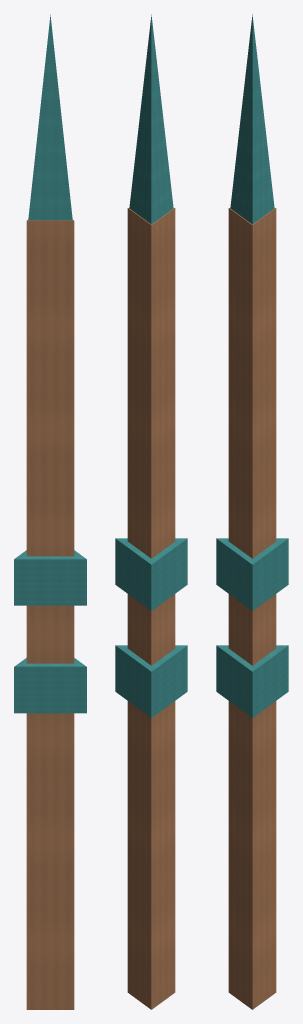
The model's file is atlas100-s091-a05.lod2.glb.
3 views of the same model, side by side, from view 1: azimuth 90°, elevation 25°; view 2: azimuth 150°, elevation 25°; view 3: azimuth 270°, elevation 25° (orthographic).
Parts seen in each view (by area): view 1: atlas100-s091-a05:part-000, atlas100-s091-a05:part-004, atlas100-s091-a05:part-002, atlas100-s091-a05:part-003; view 2: atlas100-s091-a05:part-000, atlas100-s091-a05:part-004, atlas100-s091-a05:part-002, atlas100-s091-a05:part-003; view 3: atlas100-s091-a05:part-000, atlas100-s091-a05:part-004, atlas100-s091-a05:part-002, atlas100-s091-a05:part-003.
Part boxes in pixels (<box>): atlas100-s091-a05:part-000: <box>26,220,74,1009</box>; atlas100-s091-a05:part-004: <box>28,14,72,220</box>; atlas100-s091-a05:part-002: <box>14,658,86,713</box>; atlas100-s091-a05:part-003: <box>14,550,86,605</box>; atlas100-s091-a05:part-000: <box>127,208,175,1009</box>; atlas100-s091-a05:part-004: <box>129,14,173,224</box>; atlas100-s091-a05:part-002: <box>115,645,187,717</box>; atlas100-s091-a05:part-003: <box>115,538,187,610</box>; atlas100-s091-a05:part-000: <box>228,208,276,1009</box>; atlas100-s091-a05:part-004: <box>230,14,274,224</box>; atlas100-s091-a05:part-002: <box>216,645,288,717</box>; atlas100-s091-a05:part-003: <box>216,538,288,610</box>.
Bounding box in the file's own units: 0.0868 × 1.51 × 0.1002.
Materials: 2 (2 with a texture image).
